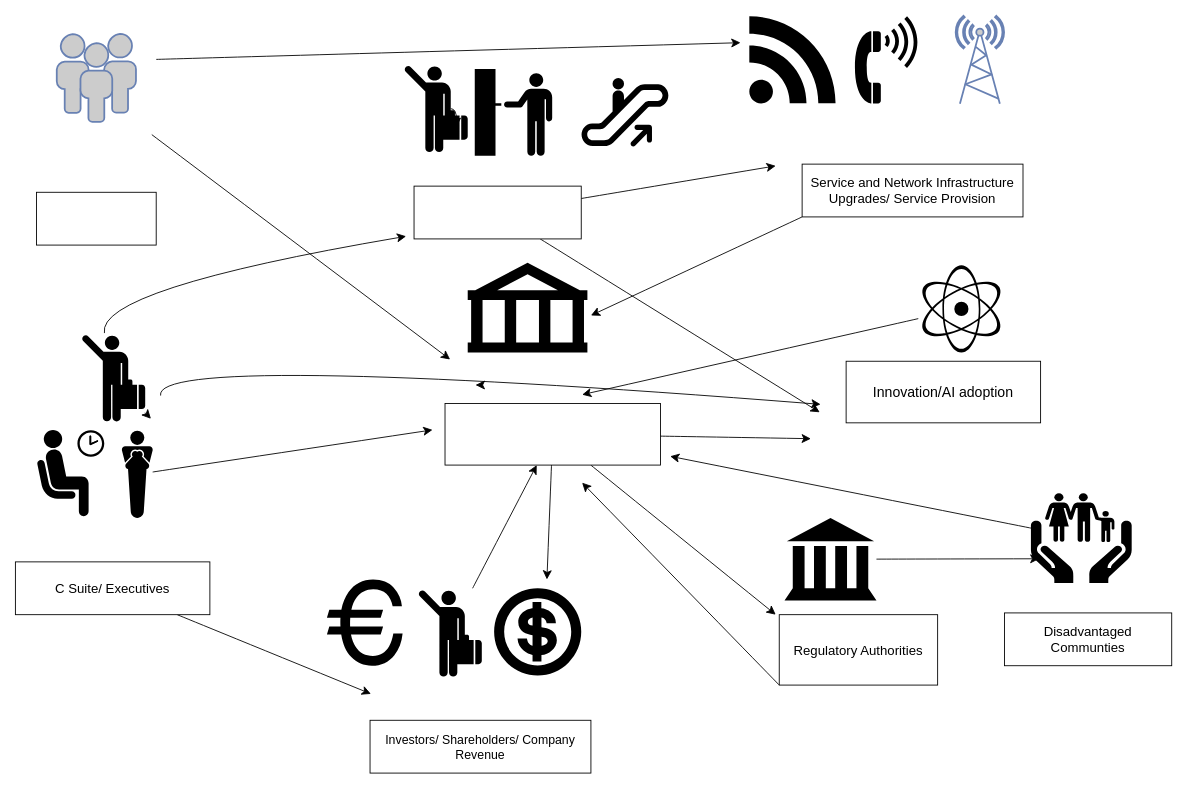
Some shapes in this 1187 by 788 pixel diagram are drawn without their labels. Here are the shapes that lost their labels. From the top down, the centre of each, then its label:
the point at 96,218: Customers
the point at 497,212: Employees
the point at 552,434: Telecommunication's Company
